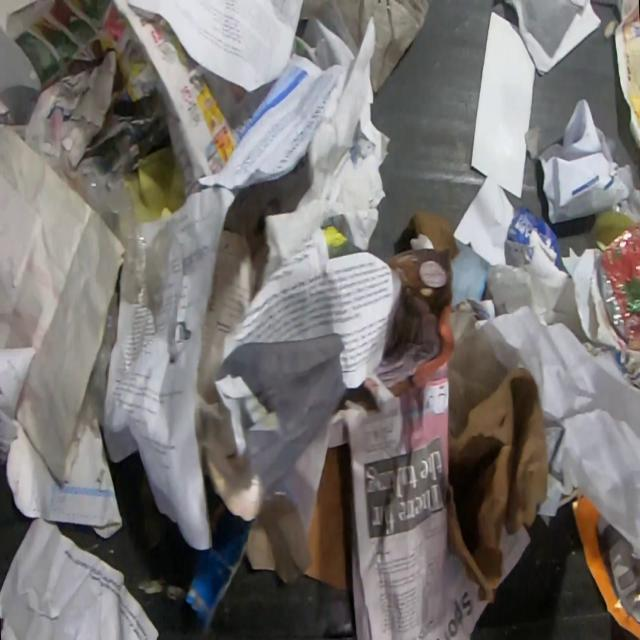cardboard: (446, 363, 550, 608), (182, 489, 315, 638), (306, 441, 352, 593), (0, 25, 44, 127), (449, 235, 490, 312), (407, 209, 462, 259)
soft_plastic: (70, 164, 189, 445), (570, 496, 640, 640), (596, 217, 639, 354)
